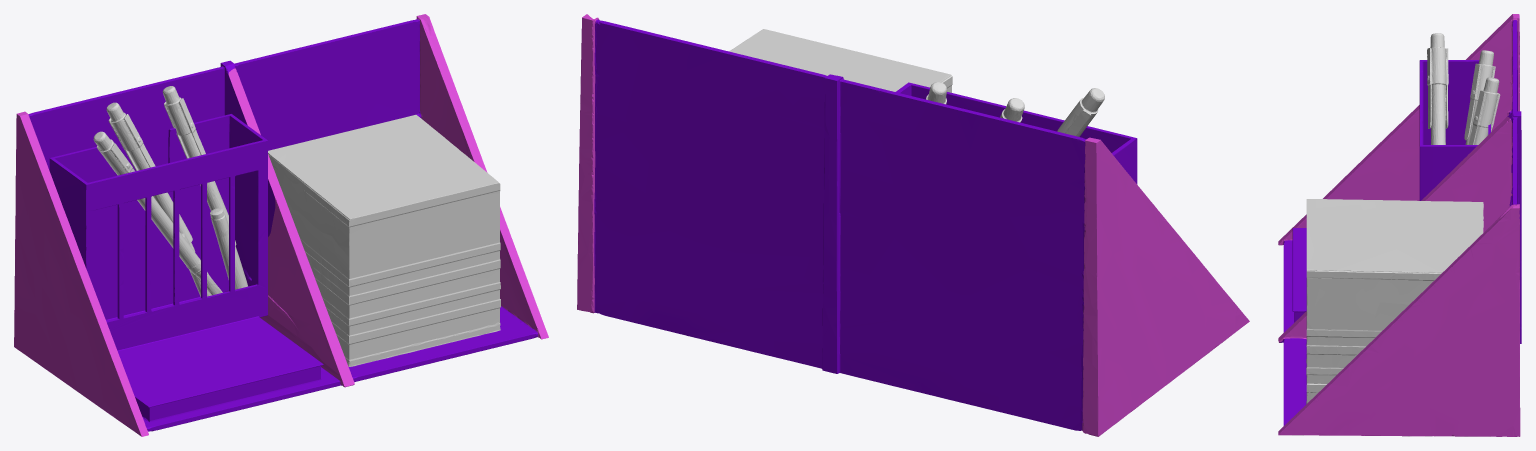
The model's file is MDL_Organizador_01.fbx.
3 renders of one model, left to right at view 1: azimuth 30°, elevation 25°; view 2: azimuth 150°, elevation 25°; view 3: azimuth 270°, elevation 25°, orthographic. The views are drawn at different scales.
Parts seen in each view (by area): view 1: model_part9.001, model_part8.001, model_part1.025; view 2: model_part9.001, model_part8.001, model_part1.025; view 3: model_part9.001, model_part8.001, model_part1.025.
Part boxes in pixels (left/top/right/bottom): model_part9.001: left=14, top=14, right=548, bottom=436; model_part8.001: left=268, top=114, right=500, bottom=366; model_part1.025: left=93, top=86, right=247, bottom=296; model_part9.001: left=577, top=14, right=1249, bottom=436; model_part8.001: left=729, top=29, right=952, bottom=92; model_part1.025: left=926, top=82, right=1104, bottom=136; model_part9.001: left=1278, top=14, right=1521, bottom=436; model_part8.001: left=1306, top=199, right=1483, bottom=403; model_part1.025: left=1427, top=33, right=1500, bottom=144.
Size of the model in its own units: 212 by 116 by 111.
